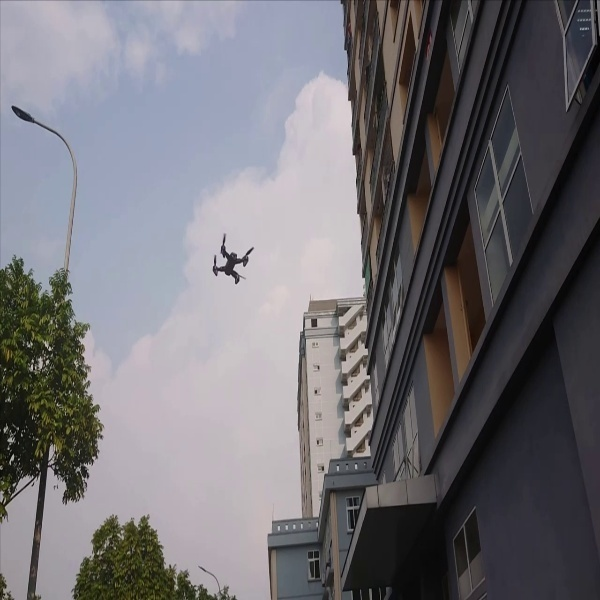drone: (203, 228, 258, 285)
